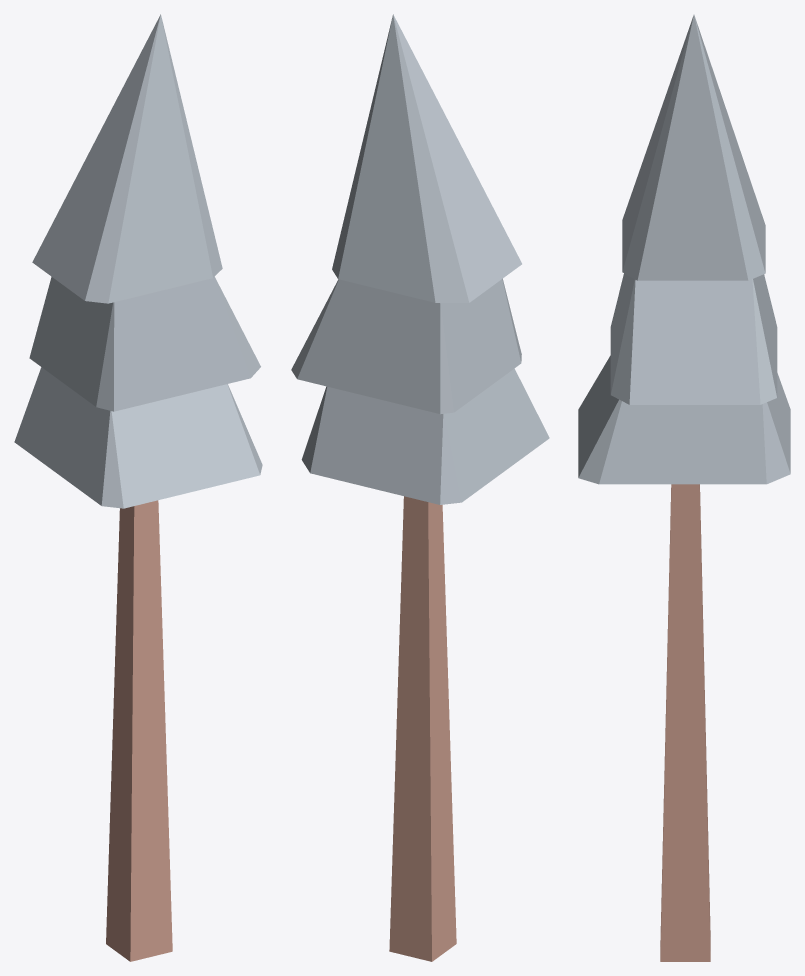
File: proto_pine_snow_b.glb
The picture shows the model from 3 angles, left to right: view 1: azimuth 30°, elevation 25°; view 2: azimuth 150°, elevation 25°; view 3: azimuth 270°, elevation 25°; orthographic projection. The views are drawn at different scales.
Parts seen in each view (by area): view 1: tree_pineTallB; view 2: tree_pineTallB; view 3: tree_pineTallB.
Part boxes in pixels (x1,y1,x2,y2): tree_pineTallB: (14,14,262,961); tree_pineTallB: (291,14,549,961); tree_pineTallB: (578,14,790,961).
Size of the model in its own units: 2.8 by 14 by 2.84.
